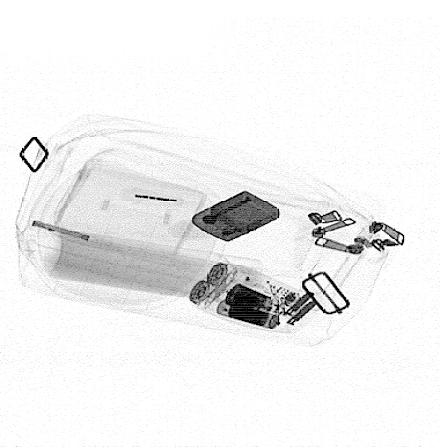Lighter: (191, 190, 281, 243)
